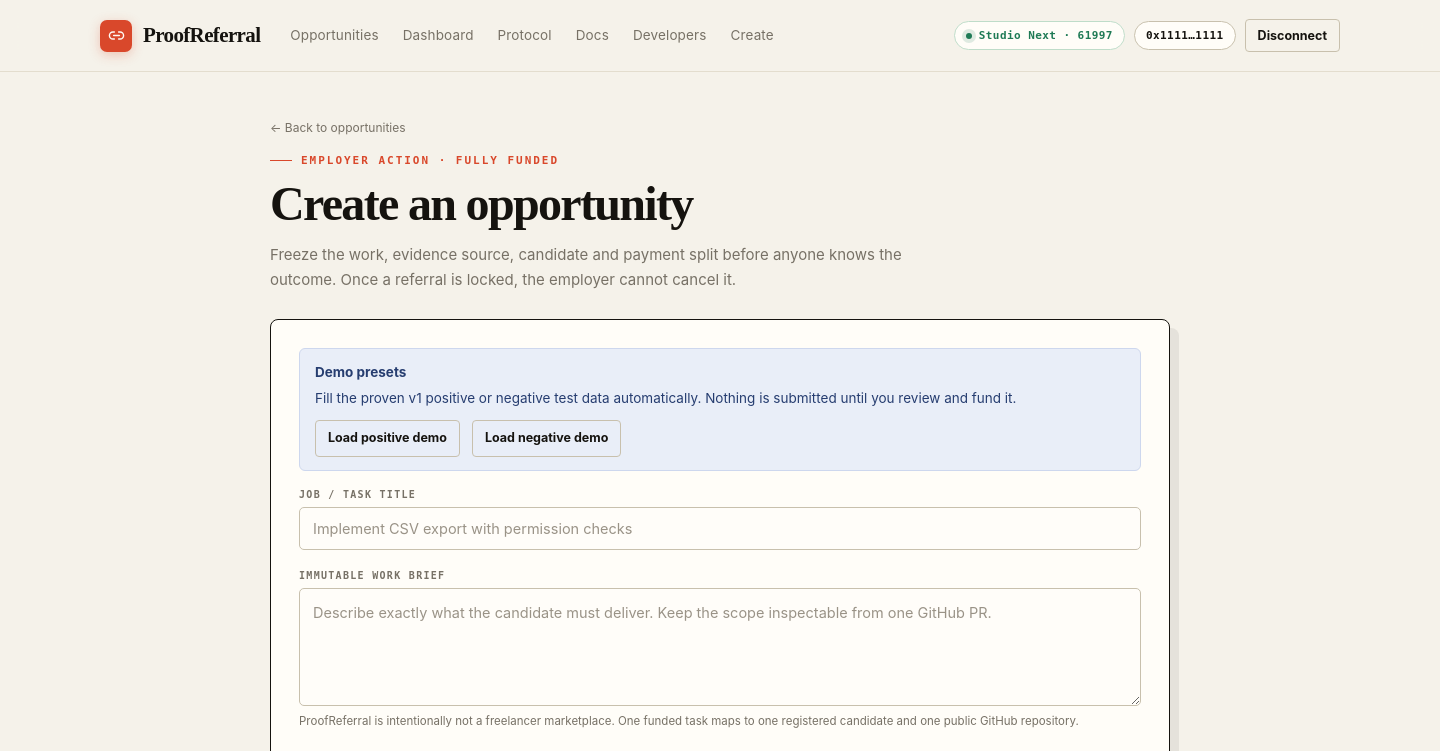
Scenario: NewOpportunity form validation › requires positive payment and reward
expect the button "Disconnect" is shown: met, box [1245,19,1340,52]
Click the button "Load positive demo" at (387, 439), box [315,420,460,457]
(page scrolled)
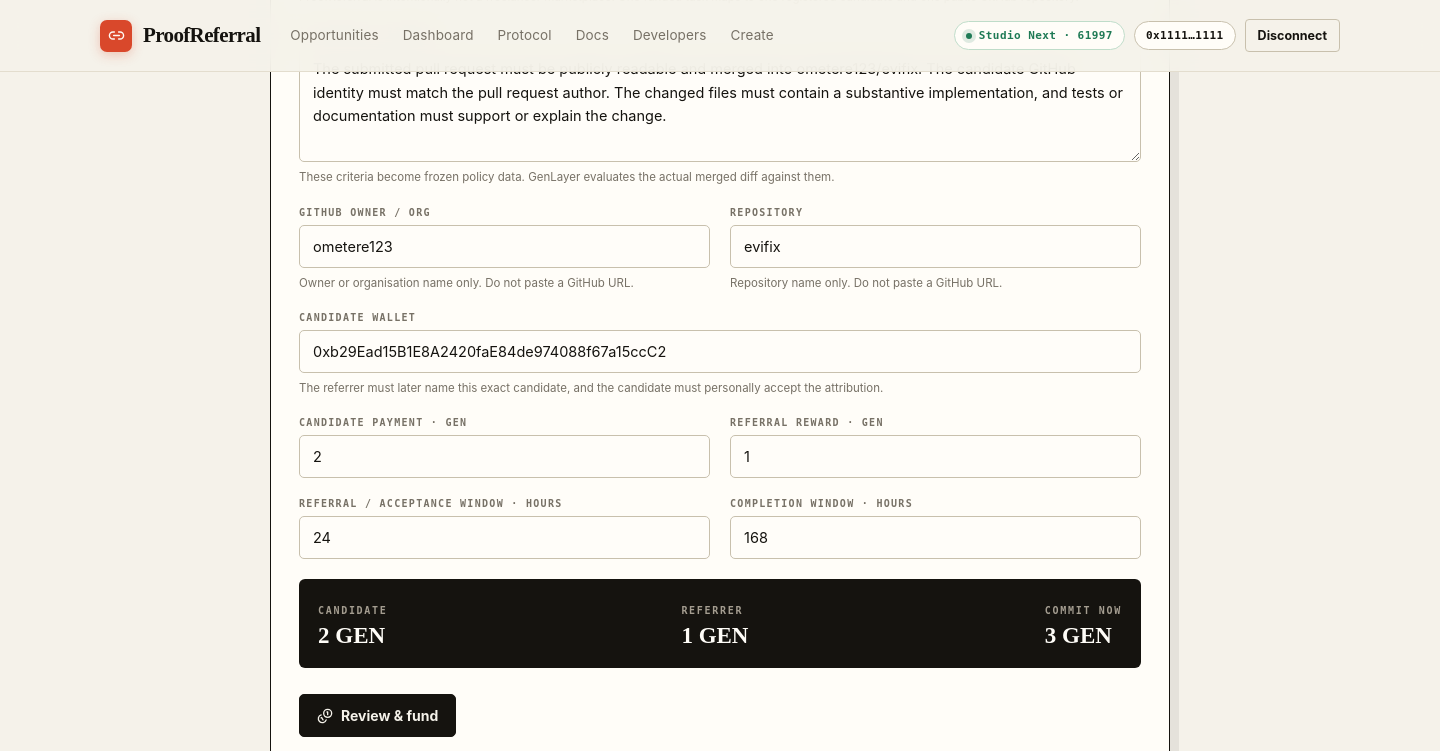
Replace the text in the field below "Referral reward · GEN" with "0" at (936, 457), box [730,435,1141,478]
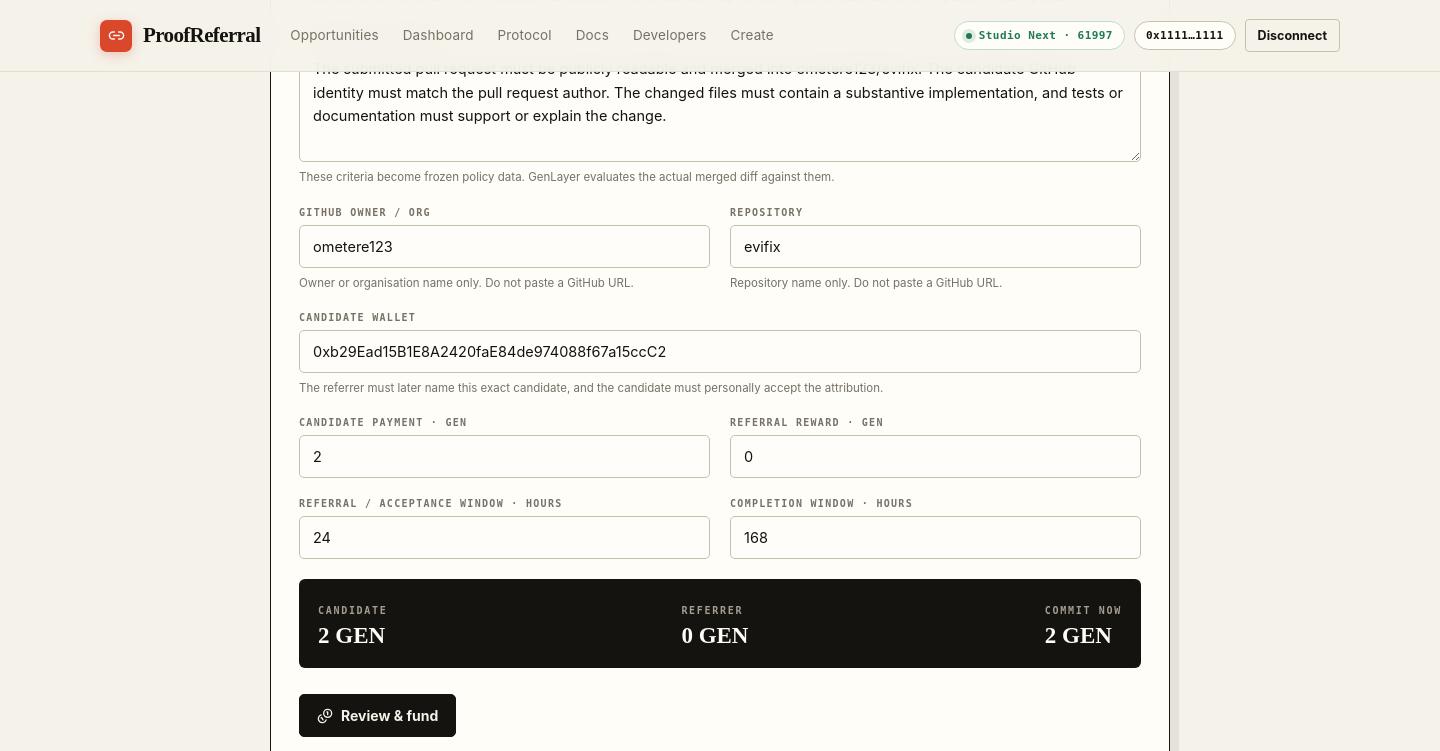
Click the button "Review & fund" at (378, 716), box [299,694,456,737]
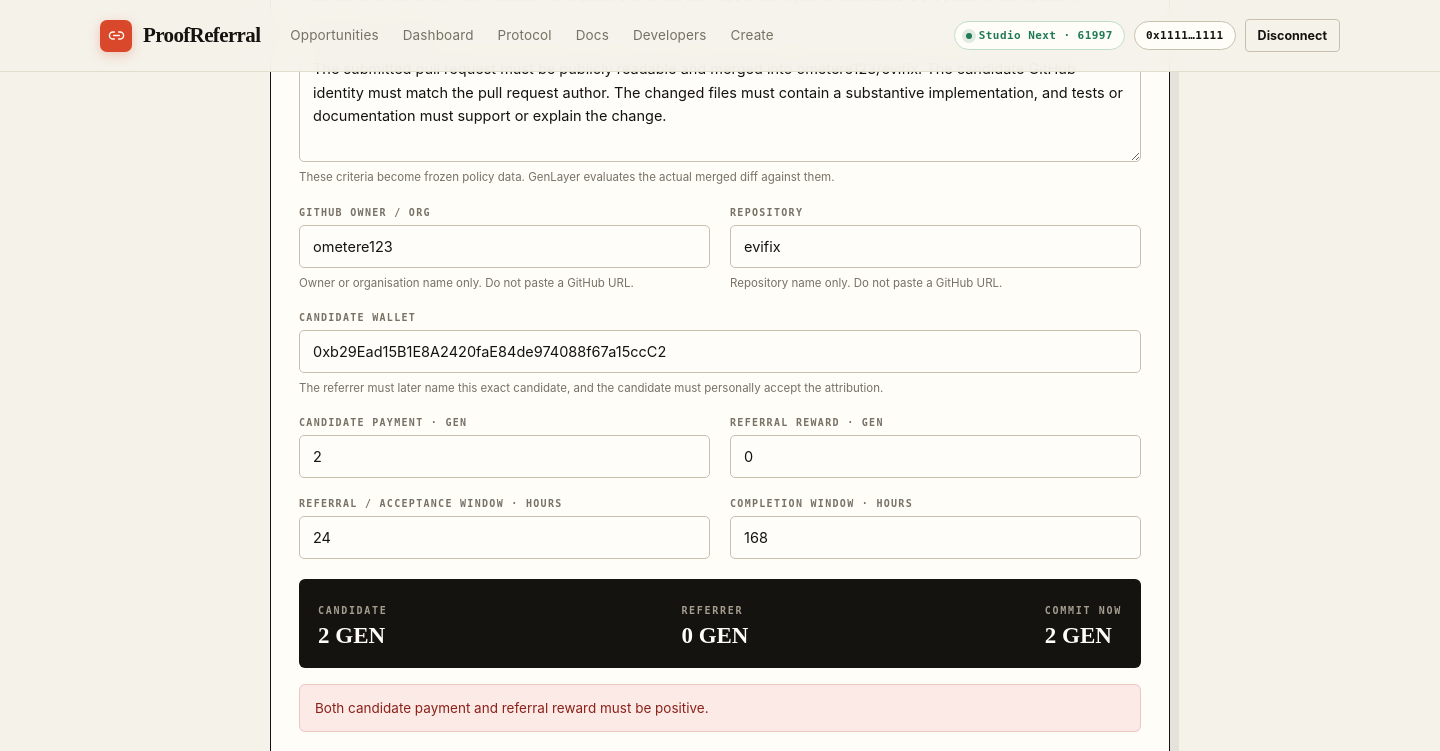
expect the text "Both candidate payment and referral reward must be positive." is shown: met, box [299,684,1141,732]
